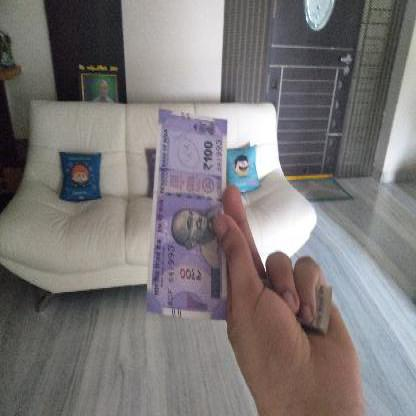New100Front: (148, 114, 224, 314)
